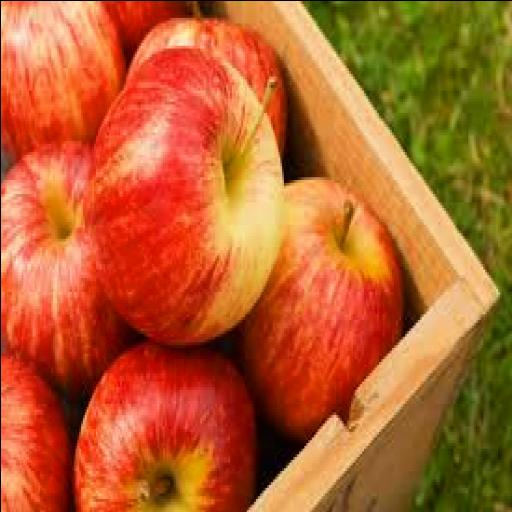apple: (84, 49, 282, 345), (241, 178, 402, 440), (1, 144, 130, 395), (73, 343, 255, 511), (125, 18, 286, 152), (1, 1, 122, 157), (1, 357, 70, 511), (101, 1, 186, 56)
